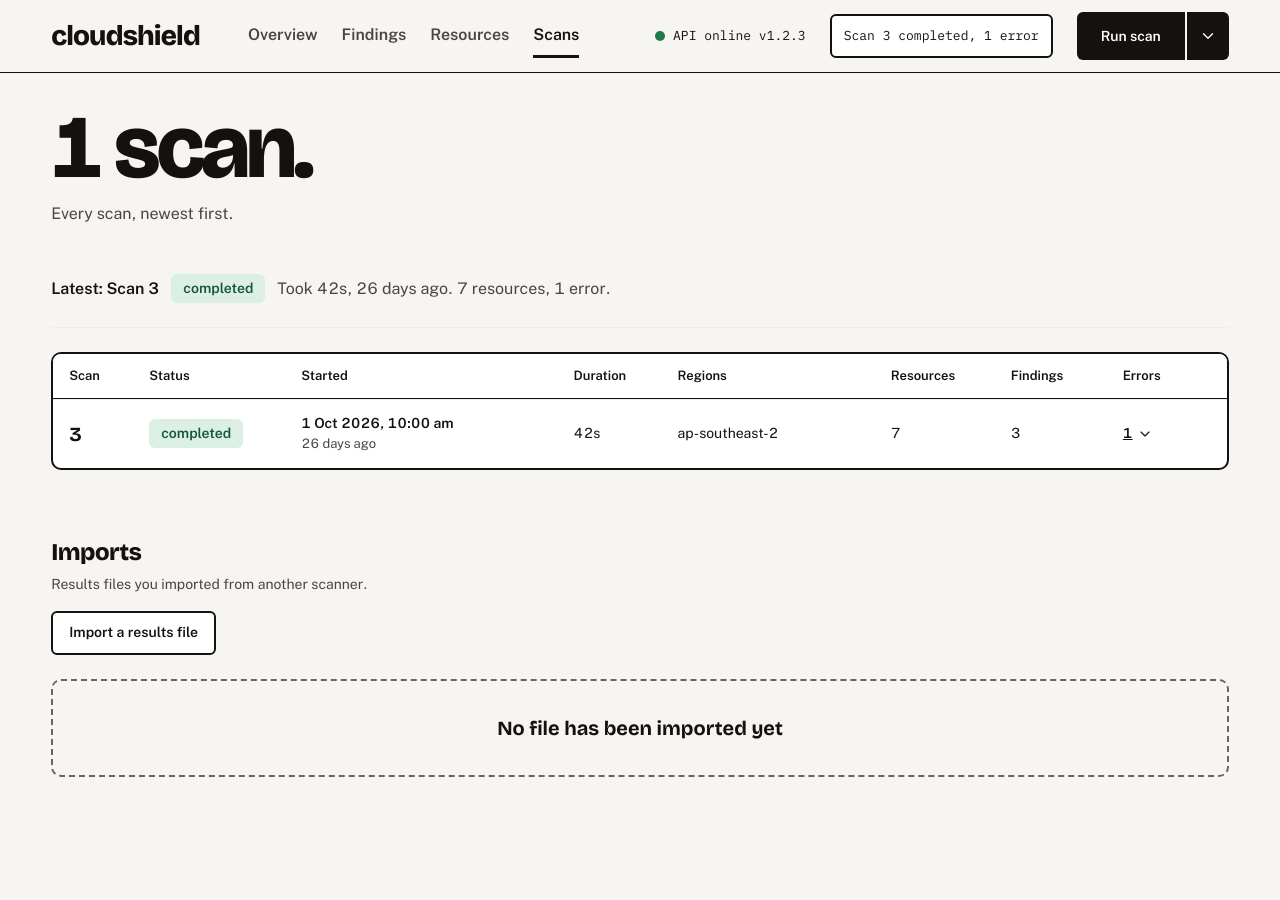
Test: Scans › shows the combined score only inside the opened details, with its tooltip
Check: the table named "Scans" is shown, box [53, 354, 1227, 468]
Check: the text "Combined score" is not shown
What coordinates should you click on to do the following:
click the button named "Details of scan 3"
I would click on:
 (1138, 434)
Its box is [1123, 412, 1153, 456].
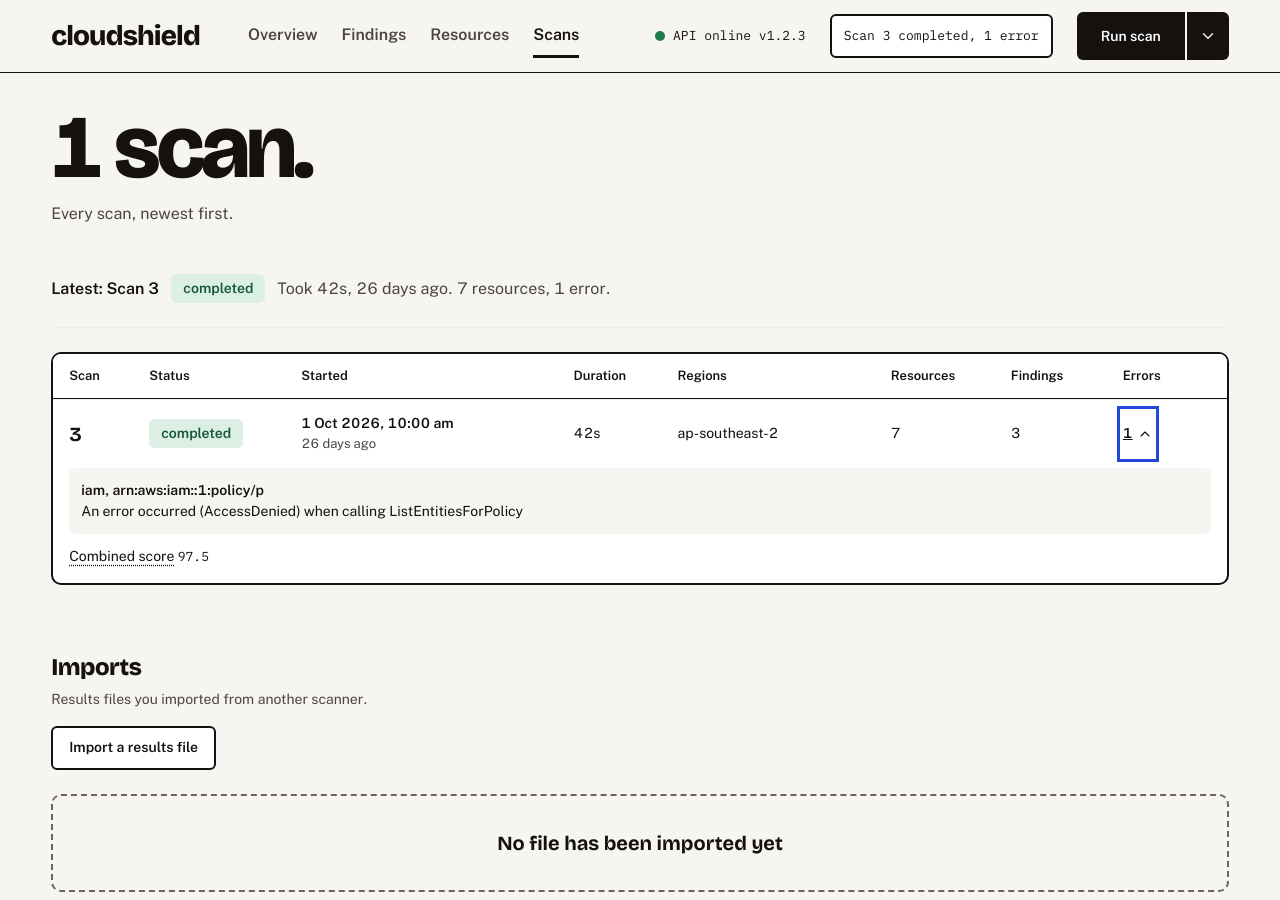
Check: the text "Combined score" is shown, box [69, 546, 174, 567]
Check: the text "97.5" is shown, box [178, 548, 209, 565]
